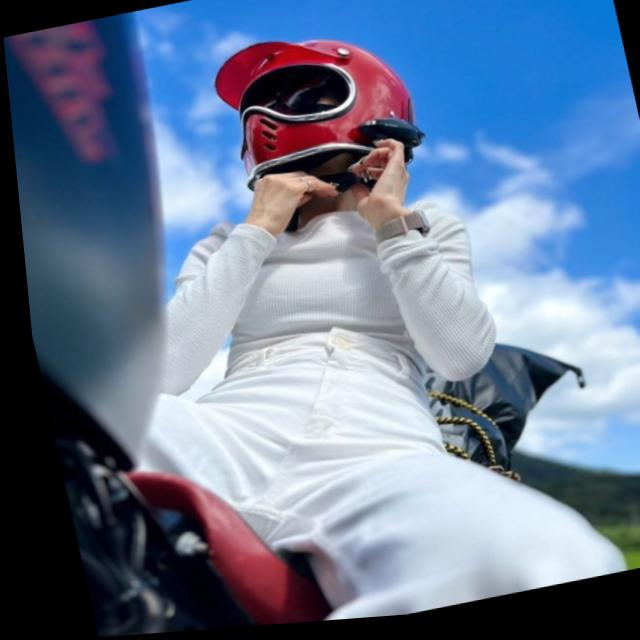helmet: (194, 14, 434, 225)
